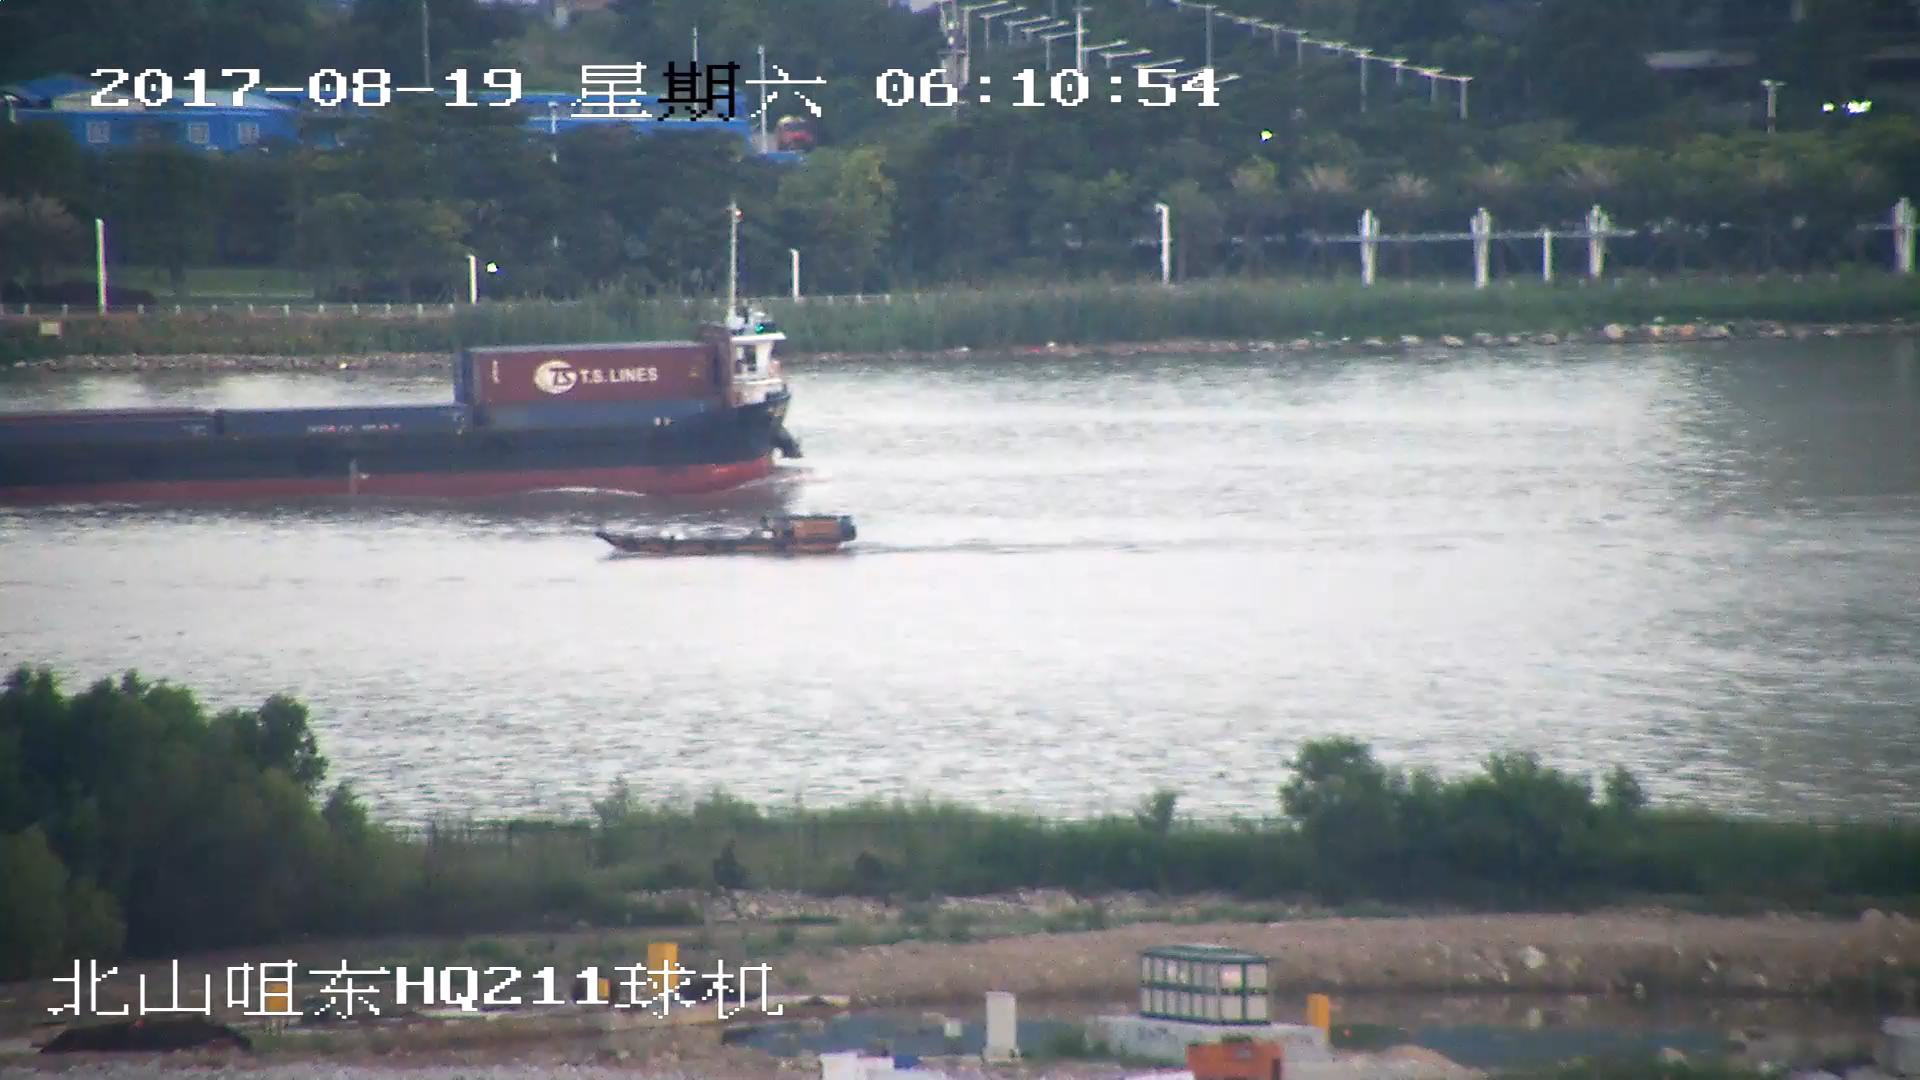container ship: (1, 304, 795, 497)
fishing boat: (601, 518, 859, 558)
